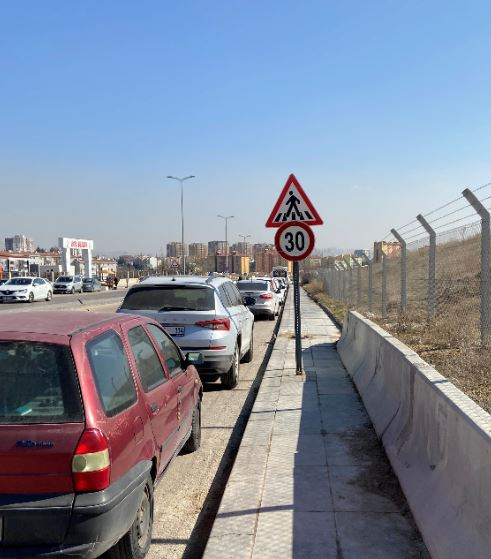30 Km Hiz Siniri: (270, 219, 321, 261)
Yaya Gecidi: (264, 173, 325, 218)
